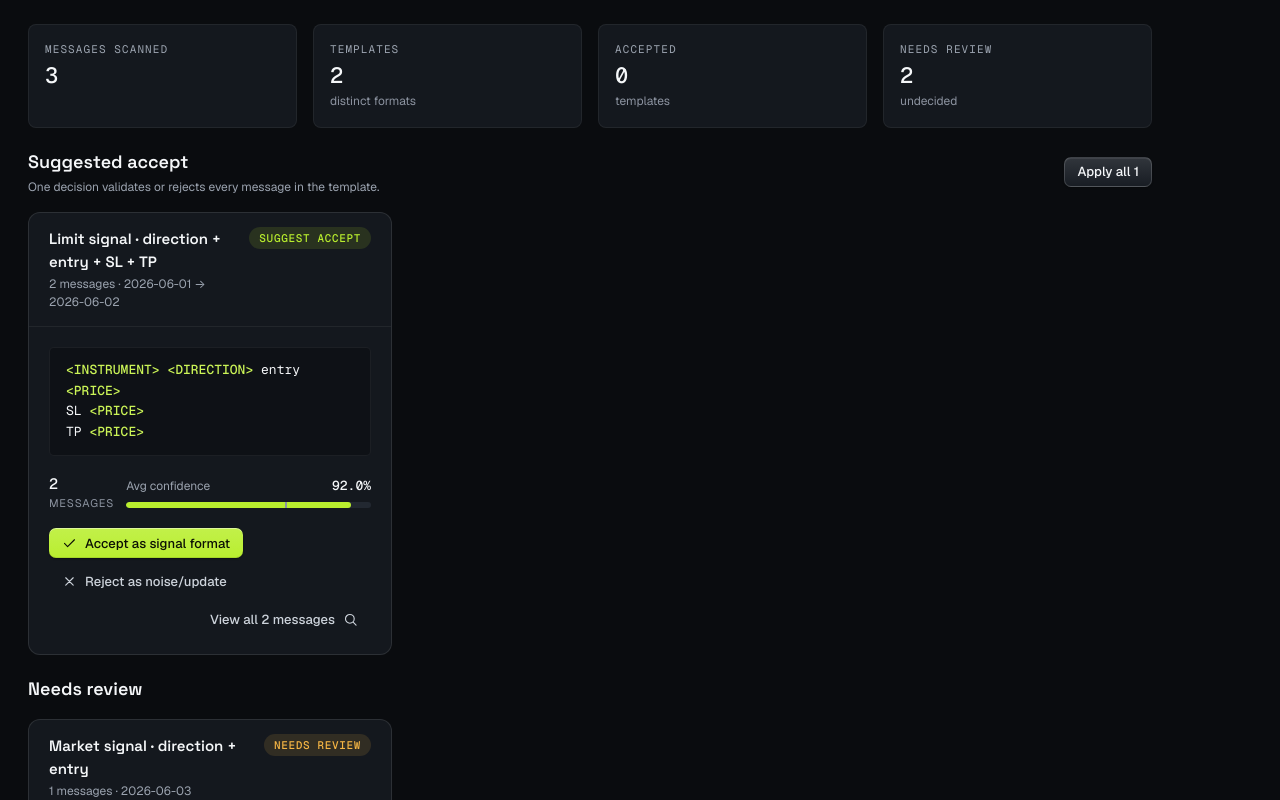
TemplateMiningPage › closes the examples modal after Accept
Expected: the text "Suggested accept" is shown, [28, 150, 188, 173]
Click the button "View all 2 messages" at (284, 619), box [197, 604, 371, 634]
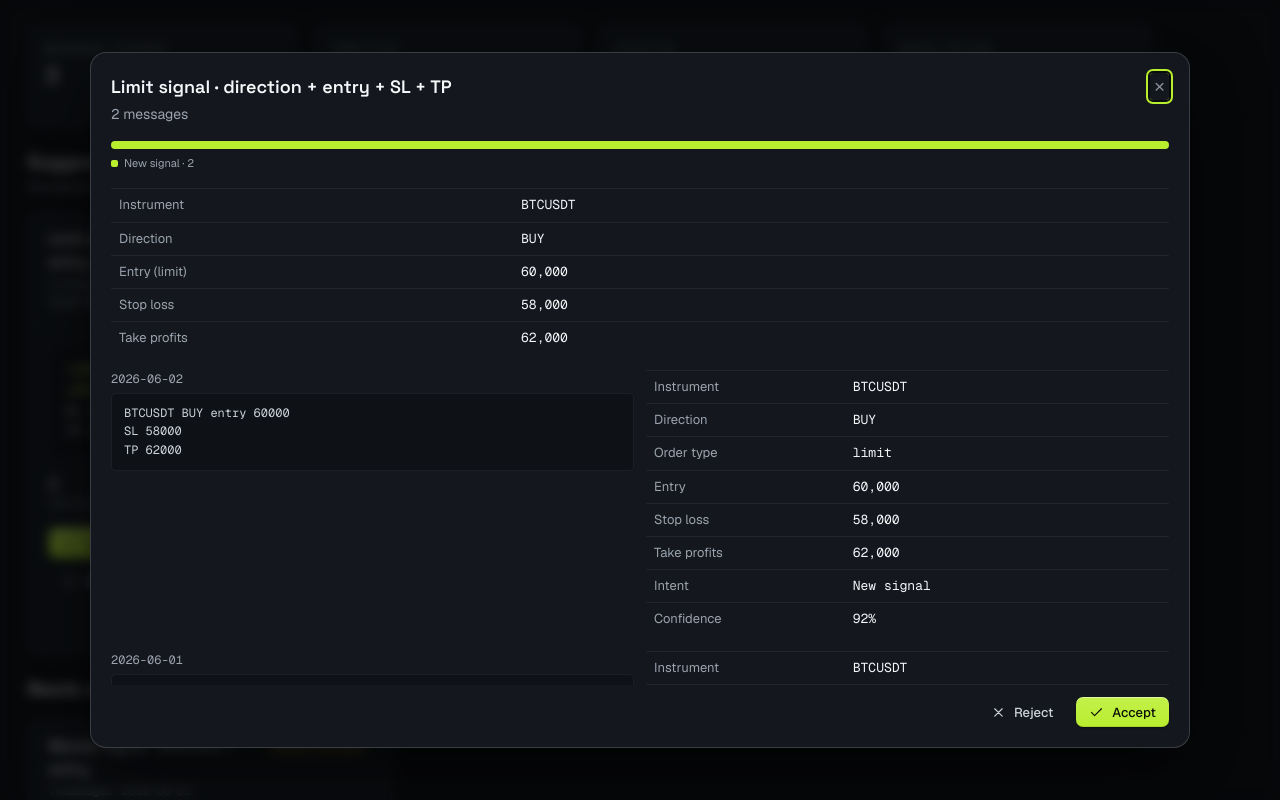
Click the button "Accept" at (1123, 712), box [1076, 697, 1169, 727]
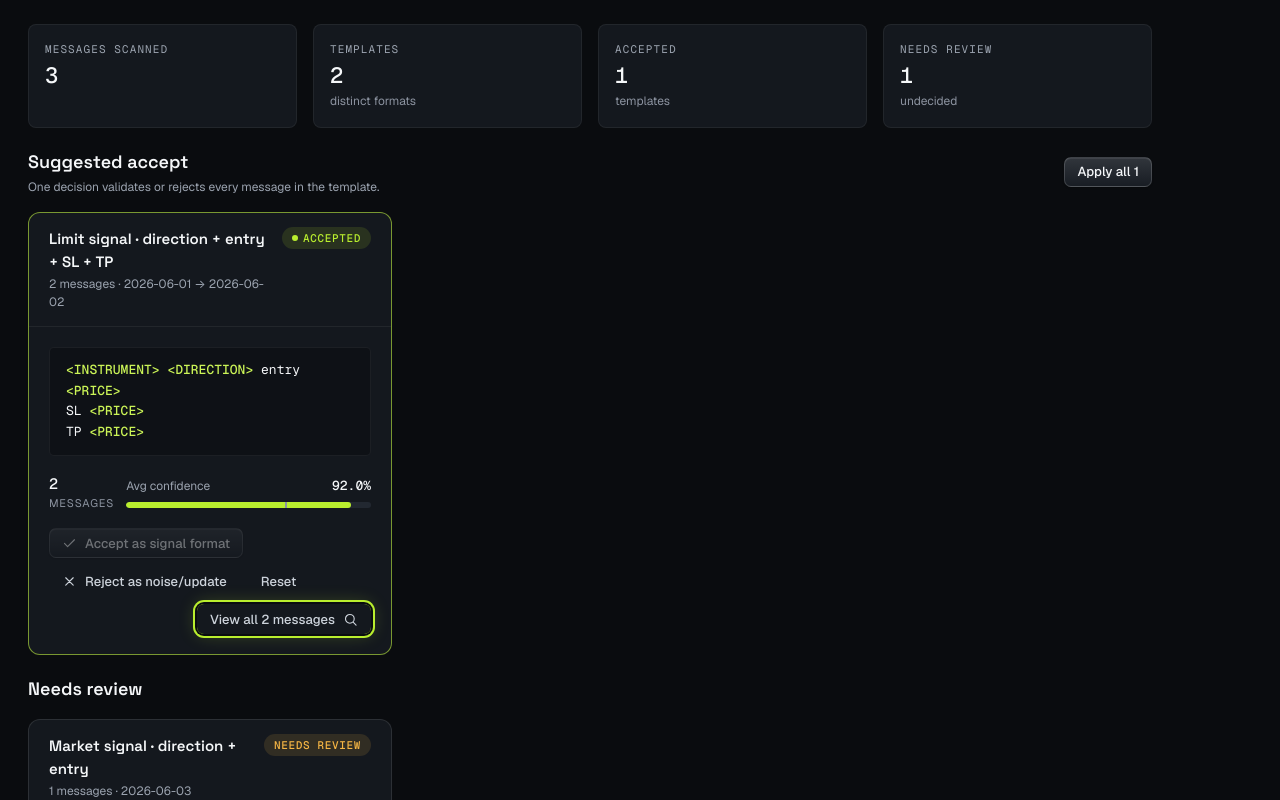
Now the dialog is gone
